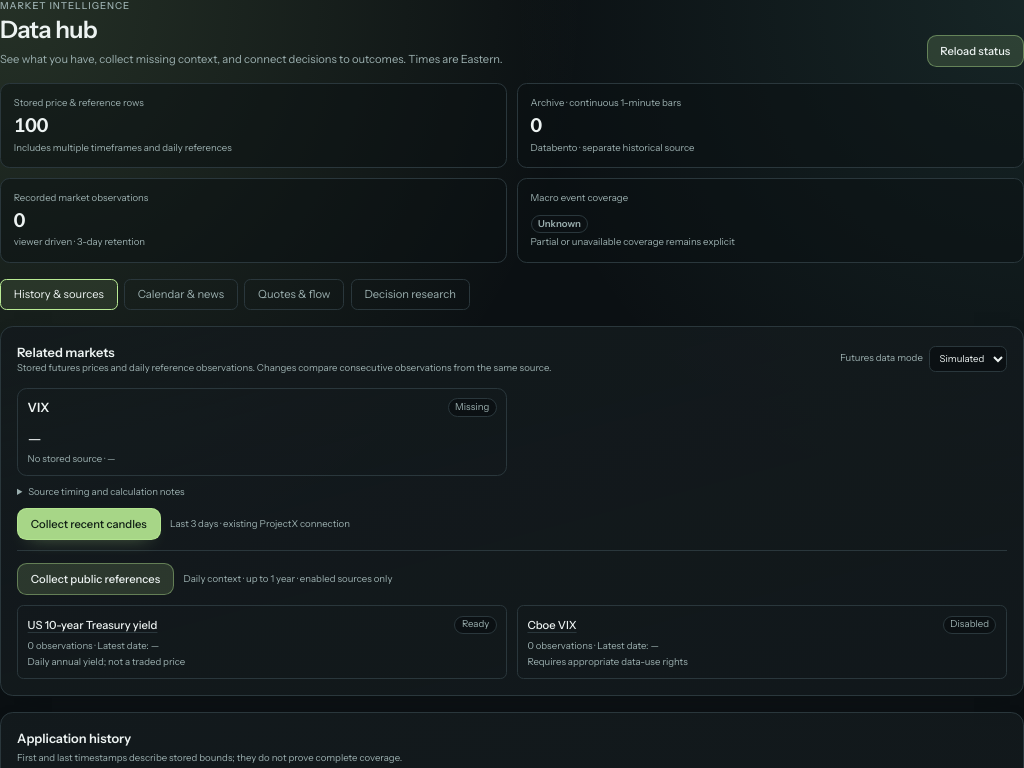
it: Data hub › shows missing feeds and keeps unavailable data distinct from zero
The width and height of the screenshot is (1024, 768).
expect the text "VIX" is shown: met, box [28,398,49,418]
expect the text "missing" is shown: met, box [448,398,497,418]
Click the button "Calendar & news".
click(181, 294)  # box [124,279,238,310]
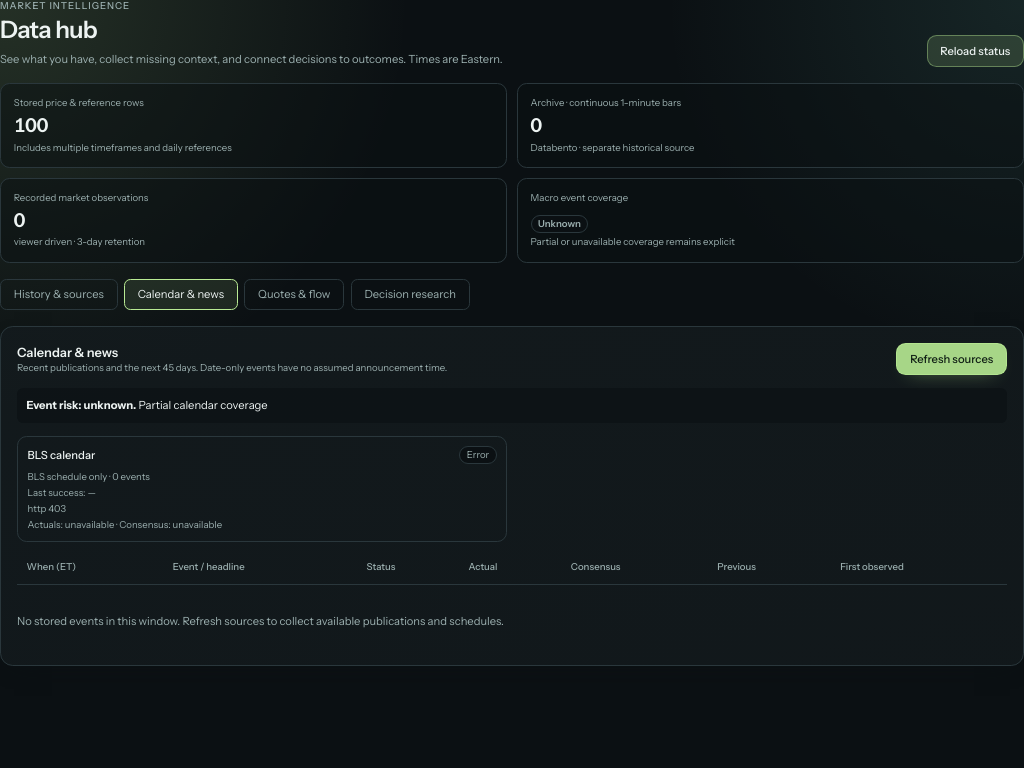
expect the heading "BLS calendar" is shown: met, box [28,447,95,463]
expect the text "http 403" is shown: met, box [28,503,66,514]
expect the text "Actuals: unavailable · Consensus: unavailable" is shown: met, box [28,519,222,530]
